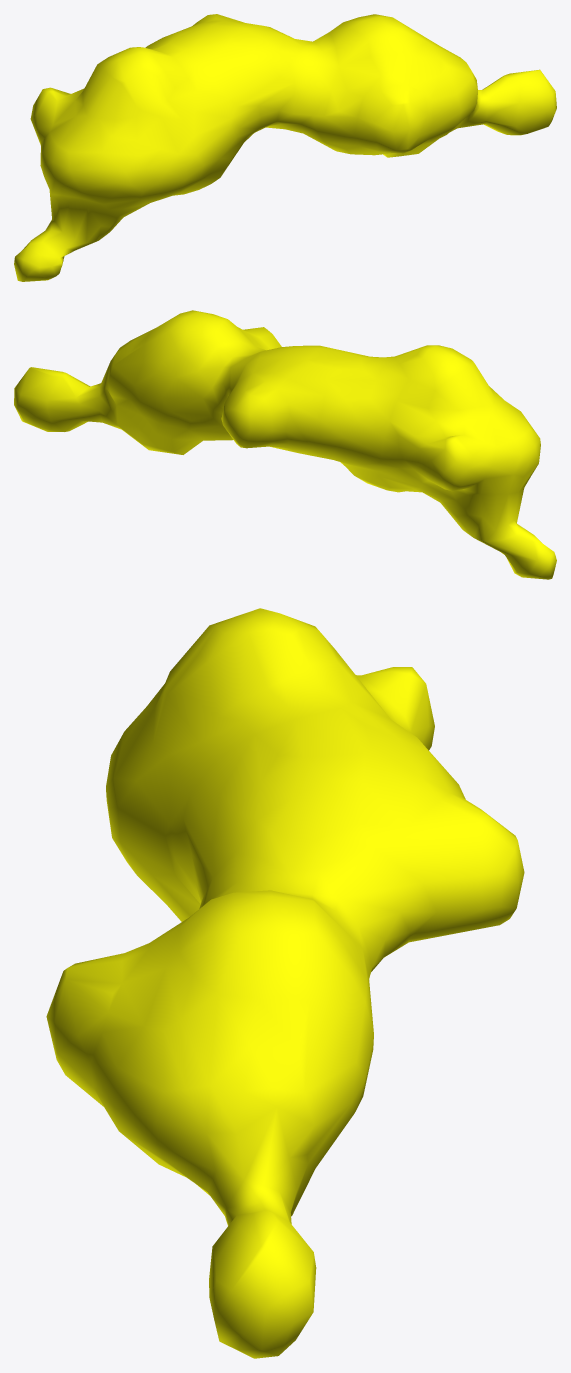
The model's file is cloud_d.glb.
The picture shows the model from 3 angles, top to bottom: view 1: azimuth 30°, elevation 25°; view 2: azimuth 150°, elevation 25°; view 3: azimuth 270°, elevation 25°; orthographic projection. The views are drawn at different scales.
Parts seen in each view (by area): view 1: SM_Cloud_04; view 2: SM_Cloud_04; view 3: SM_Cloud_04.
Part boxes in pixels (x1=…): SM_Cloud_04: x1=14, y1=14, x2=556, y2=281; SM_Cloud_04: x1=14, y1=310, x2=556, y2=579; SM_Cloud_04: x1=46, y1=608, x2=524, y2=1358.
Bounding box in the file's own units: 7.02 × 2.56 × 2.71.
